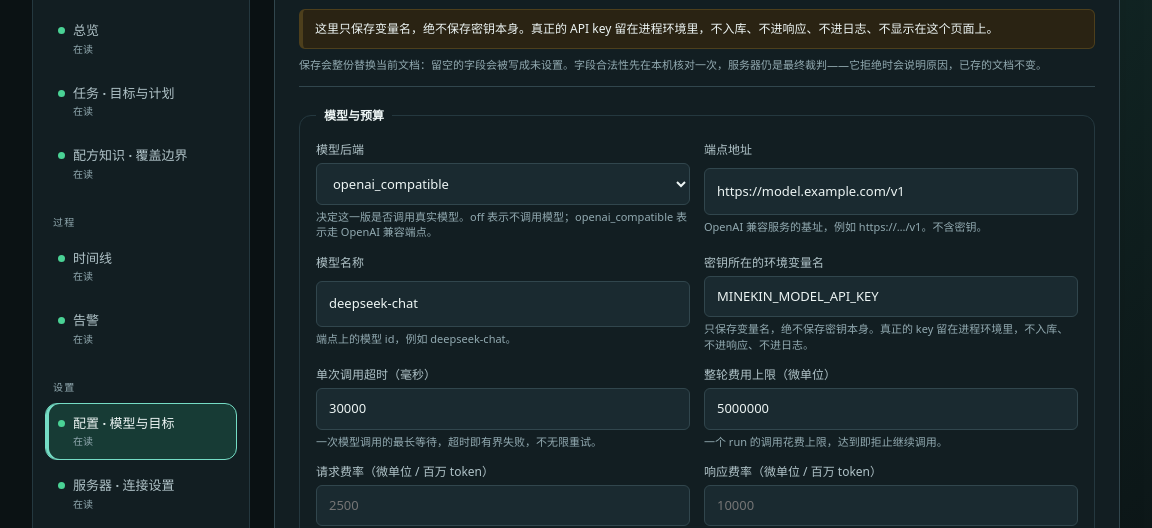
Test: 配置草稿保护 › can explicitly discard changes and clears the unsaved warning
(page scrolled)
Clear the field with test id "config-input-model_name" at point(503, 304), box [316,281,690,327]
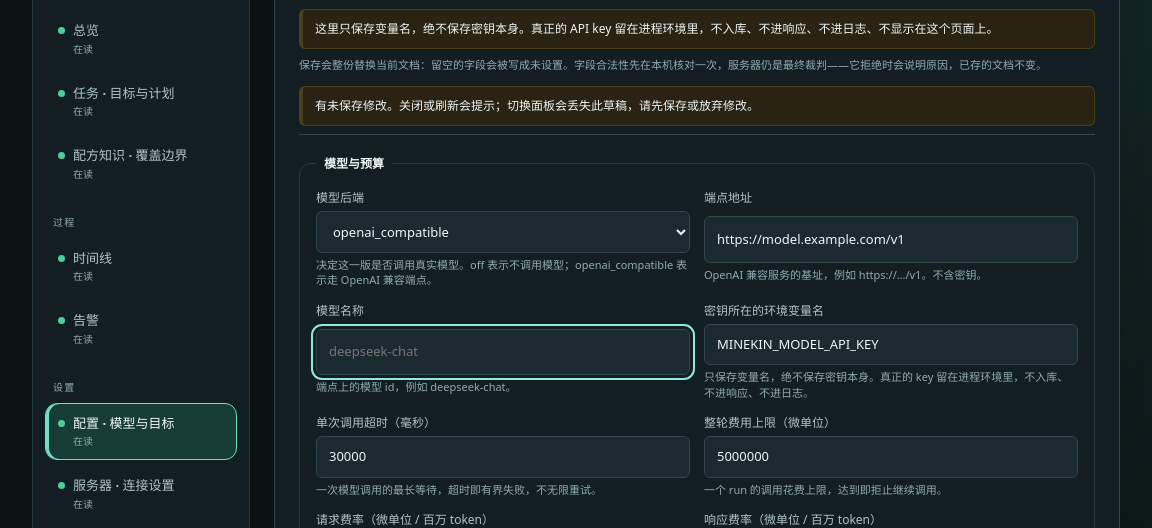
Type "local-model" into the field with test id "config-input-model_name" at point(503, 352), box [316,329,690,375]
(page scrolled)
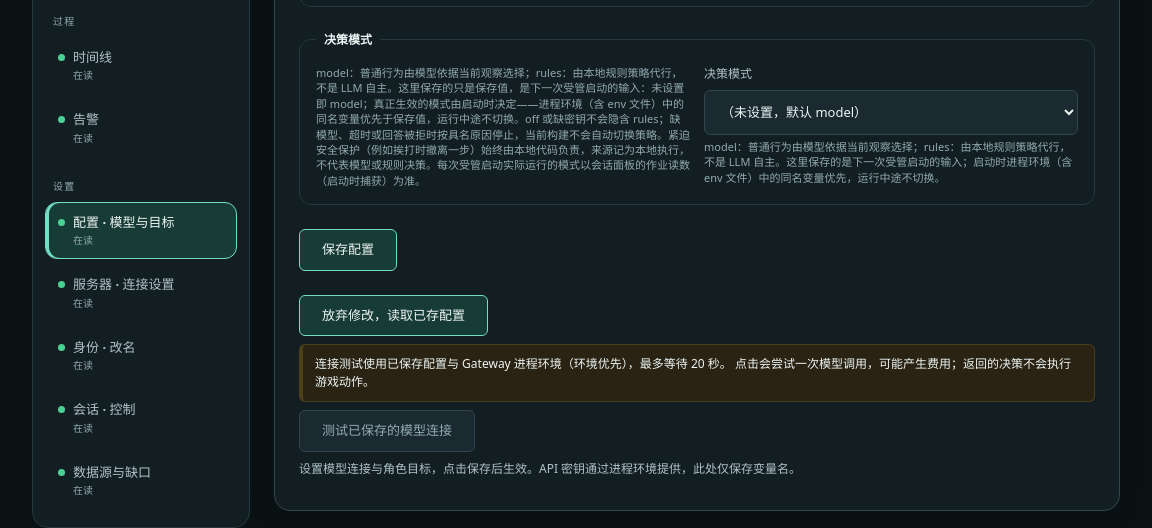
Click the button "放弃修改，读取已存配置" at point(394, 315), box [299,295,488,336]
(page scrolled)
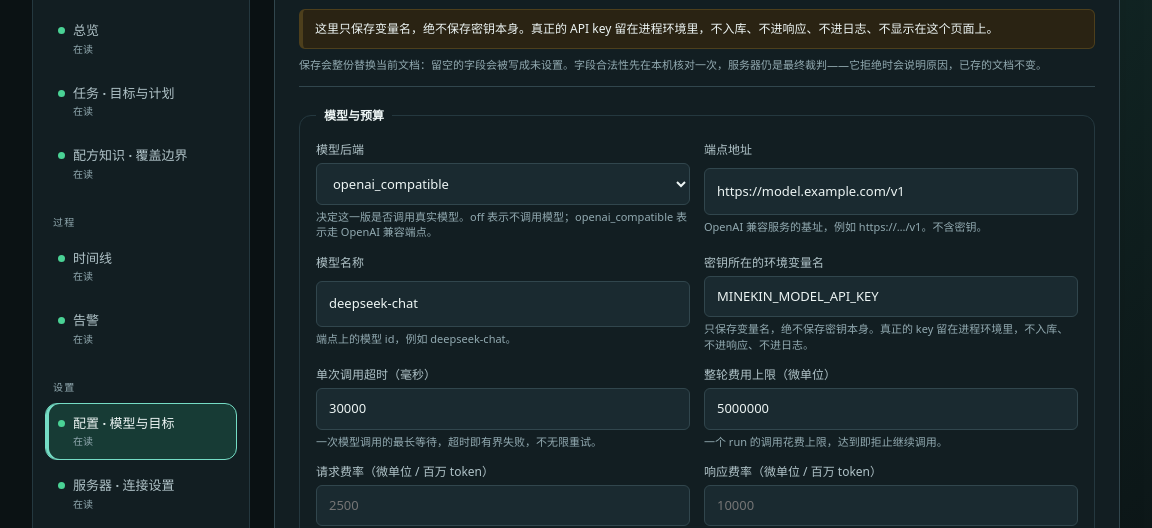
Expected: the field with test id "config-input-model_name" holds "deepseek-chat", [316,281,690,327]
